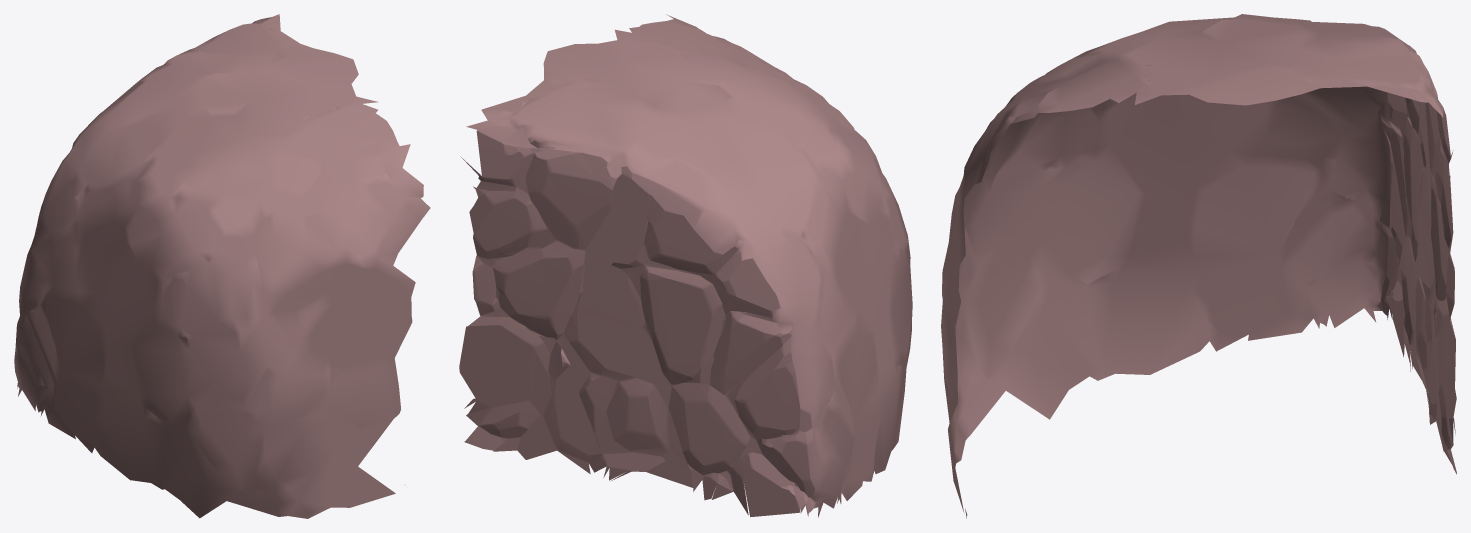
Rendered from canyon.fbx_PolyShape__3__022LODs.fbx.
3 renders of one model, left to right at view 1: azimuth 30°, elevation 25°; view 2: azimuth 150°, elevation 25°; view 3: azimuth 270°, elevation 25°, orthographic. The views are drawn at different scales.
Parts seen in each view (by area): view 1: PolyShape (3).022_LOD0; view 2: PolyShape (3).022_LOD0; view 3: PolyShape (3).022_LOD0.
Boxes of the visible parts, x1,y1,x2,y2 form: PolyShape (3).022_LOD0: [14, 14, 430, 518]; PolyShape (3).022_LOD0: [459, 14, 912, 517]; PolyShape (3).022_LOD0: [941, 14, 1456, 518].
Size of what is drawn, in the model's own units: 4028 by 4634 by 4682.
